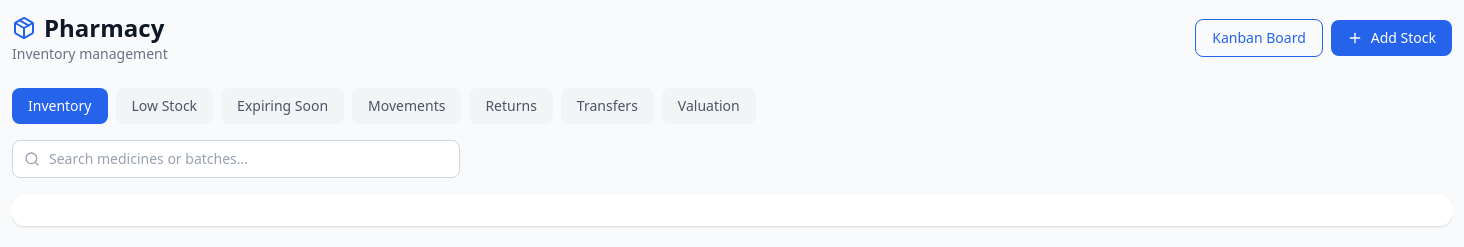
Test: PharmacyPage (inventory dashboard — full surface) › Transfers tab refetches with /pharmacy/transfers?limit=100 and renders rows when populated
Click the button "Transfers": point(607, 106) x1=561 y1=88 x2=654 y2=124
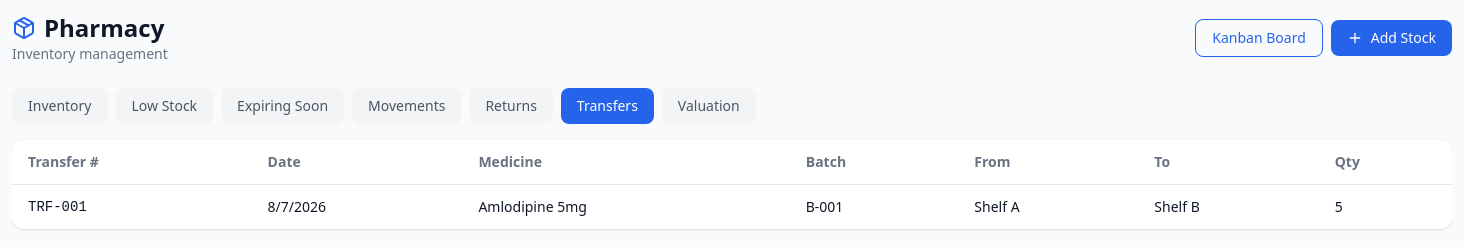
expect the text "TRF-001" is shown: met, box x1=12 y1=184 x2=252 y2=229
expect the text "Shelf A" is shown: met, box x1=958 y1=184 x2=1138 y2=229
expect the text "Shelf B" is shown: met, box x1=1138 y1=184 x2=1319 y2=229
